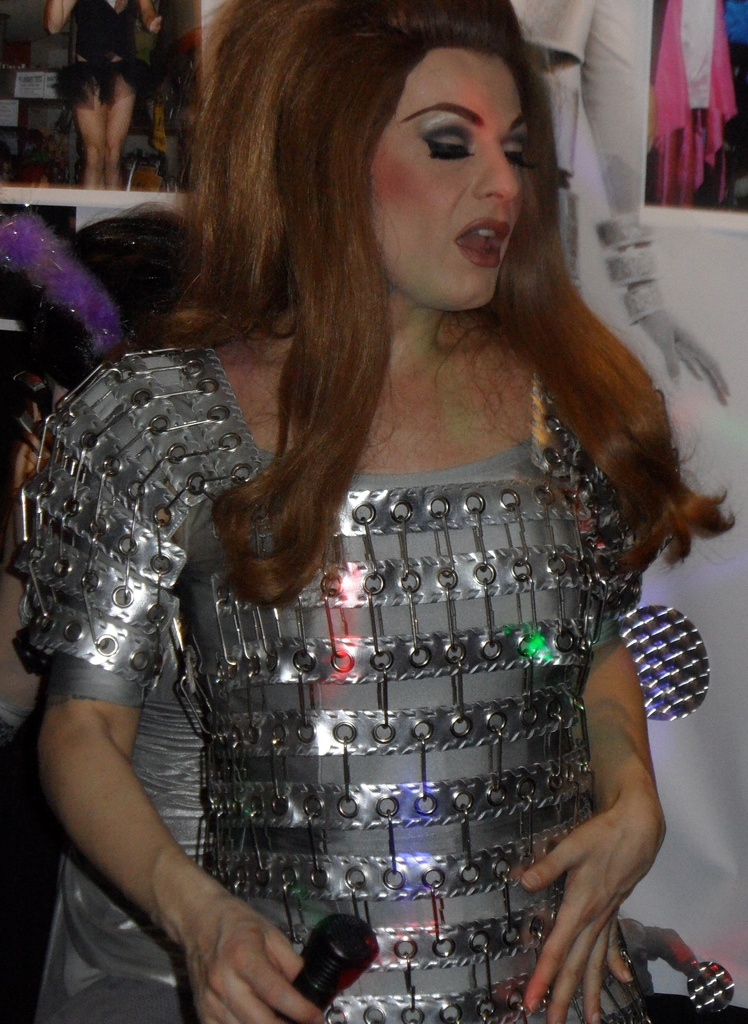person: (42, 0, 163, 190)
